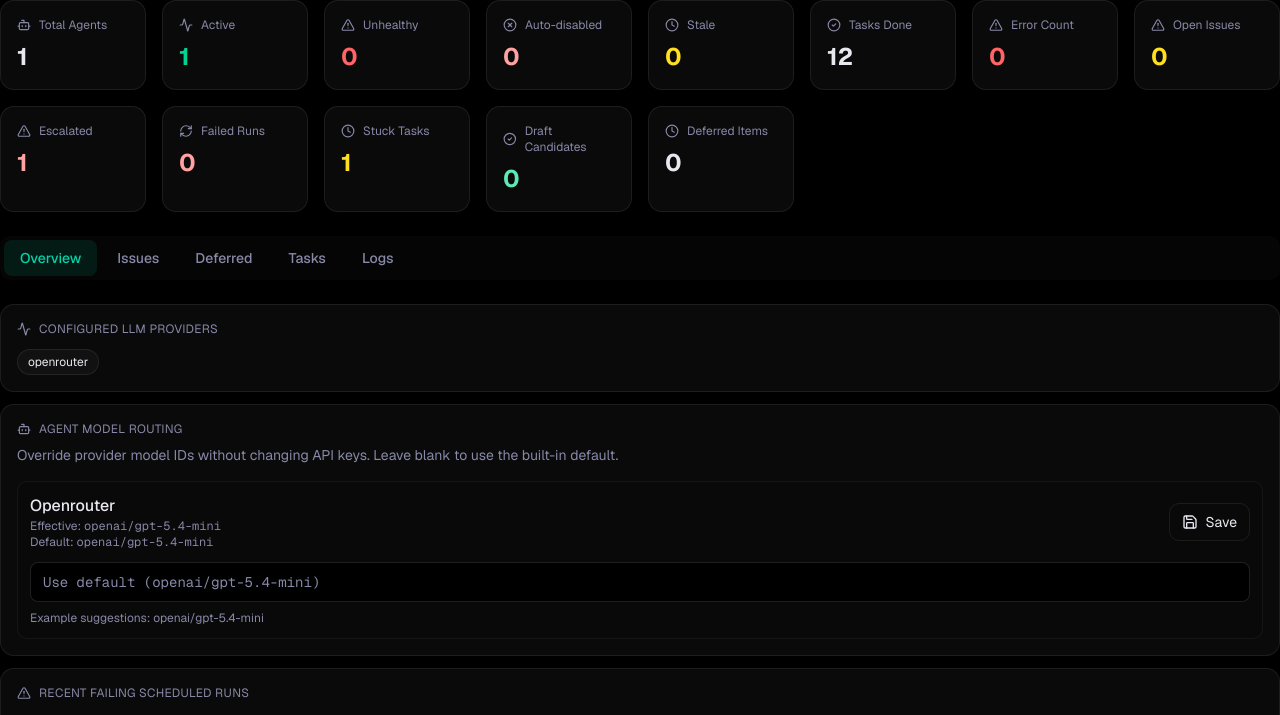
Test: AgentsContent › renders escalation and stuck-task operator details
The width and height of the screenshot is (1280, 715).
Click the button "issues". click: click(138, 258)
box: top-left (101, 240), bottom-right (175, 276)
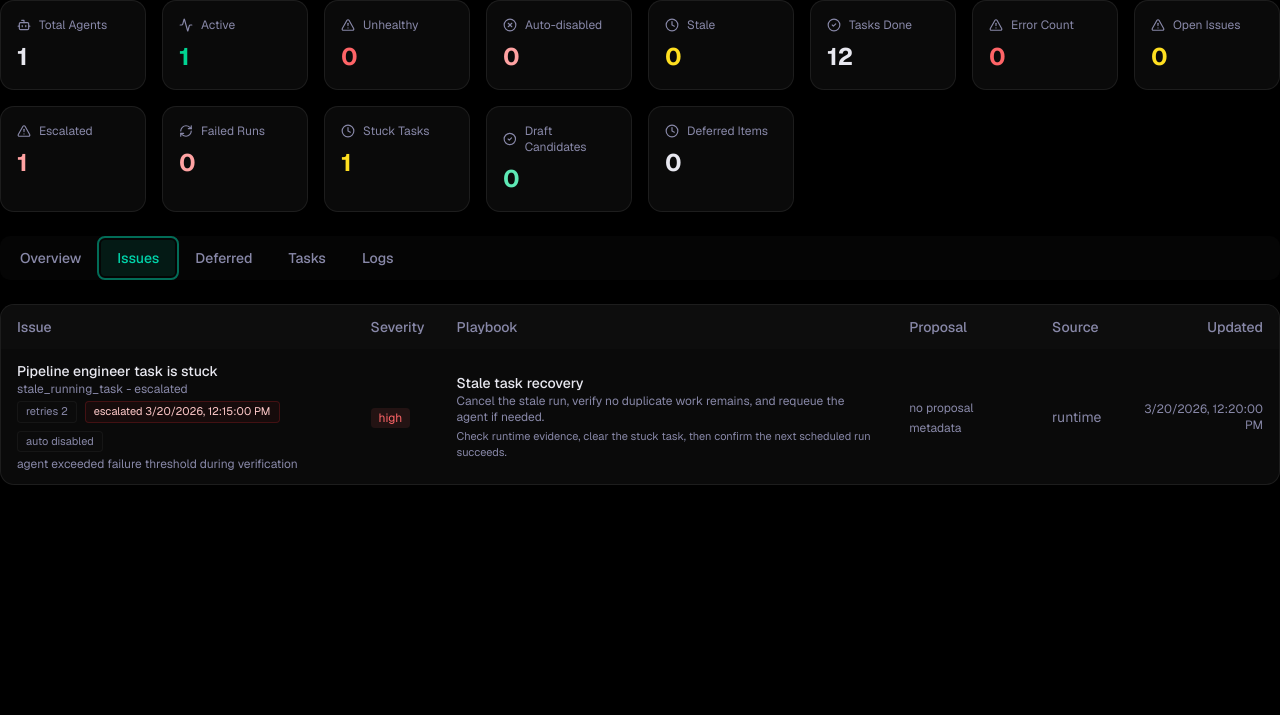
Check: the text "Pipeline engineer task is stuck" is shown, box top-left (17, 362), bottom-right (218, 380)
Check: the text "retries 2" is shown, box top-left (17, 401), bottom-right (77, 423)
Check: the text "auto disabled" is shown, box top-left (17, 431), bottom-right (103, 452)
